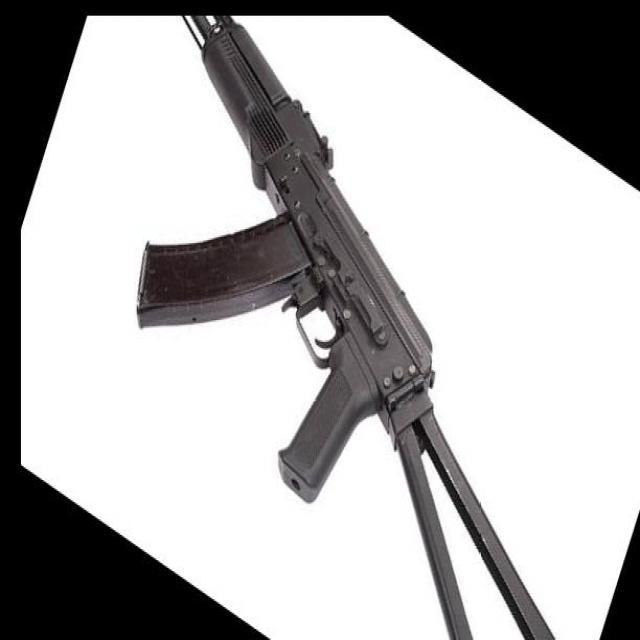weapon: (134, 17, 556, 640)
